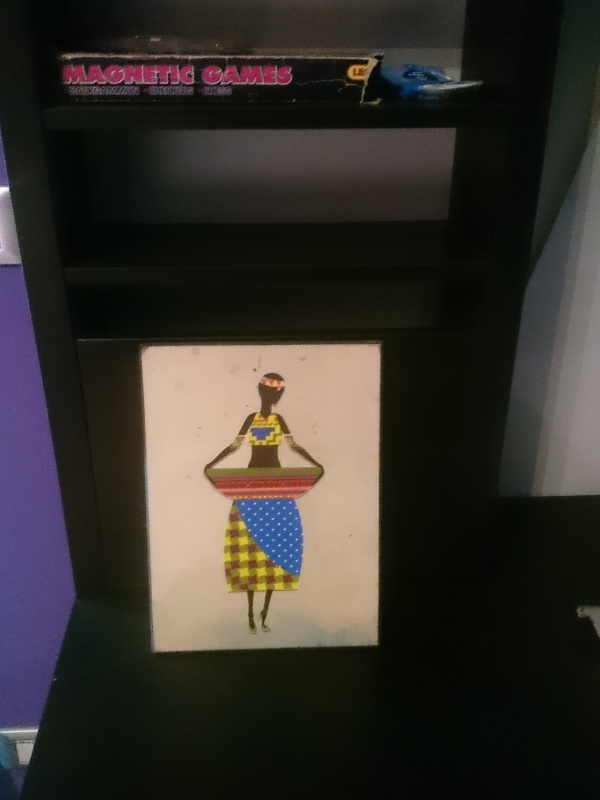my image: (146, 343, 380, 654)
